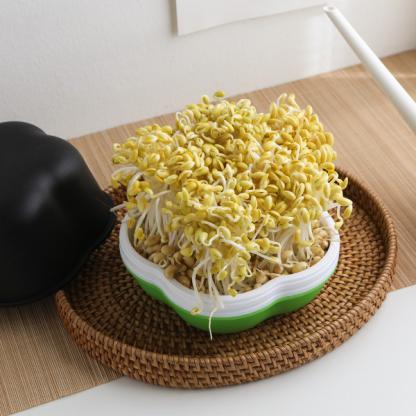bean sprouts: (107, 109, 355, 263)
